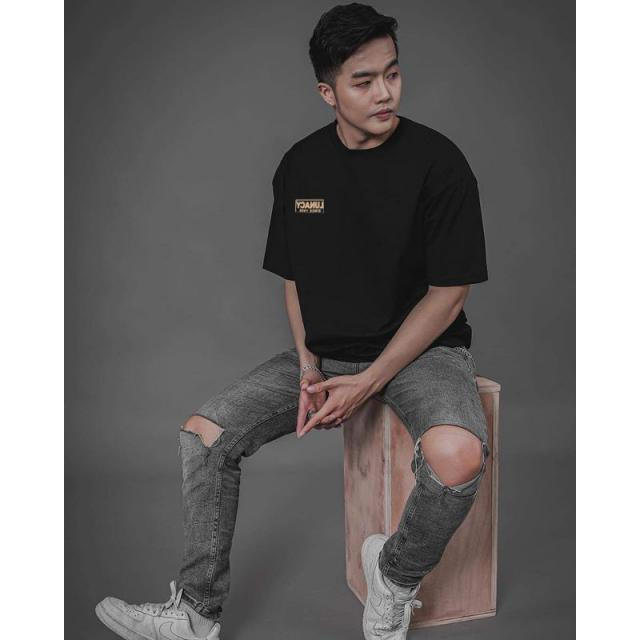Siting: (88, 6, 496, 640)
